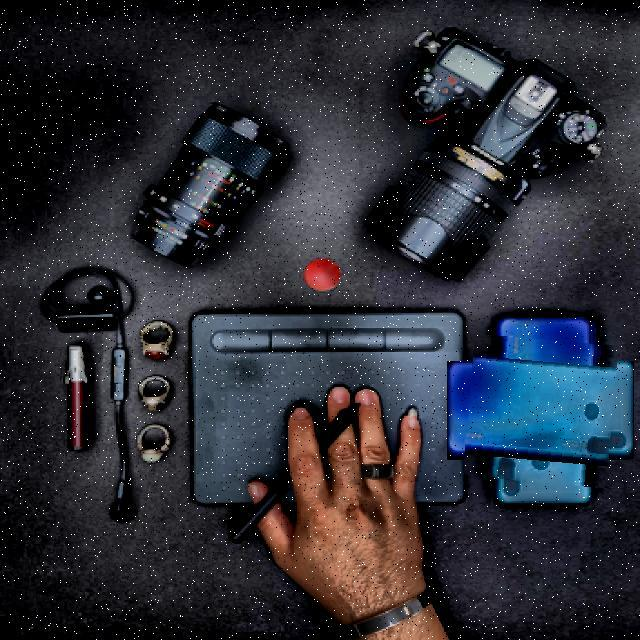Phone: (466, 336, 616, 485)
